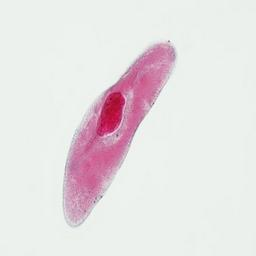Paramecium: (64, 42, 175, 230)
